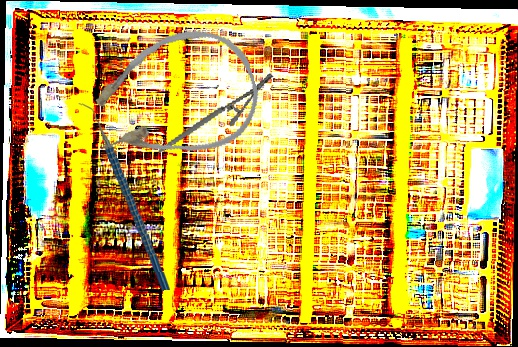Cannula: (74, 15, 271, 181)
Chopper: (75, 98, 171, 295)
Needle Holder: (145, 71, 287, 154)
